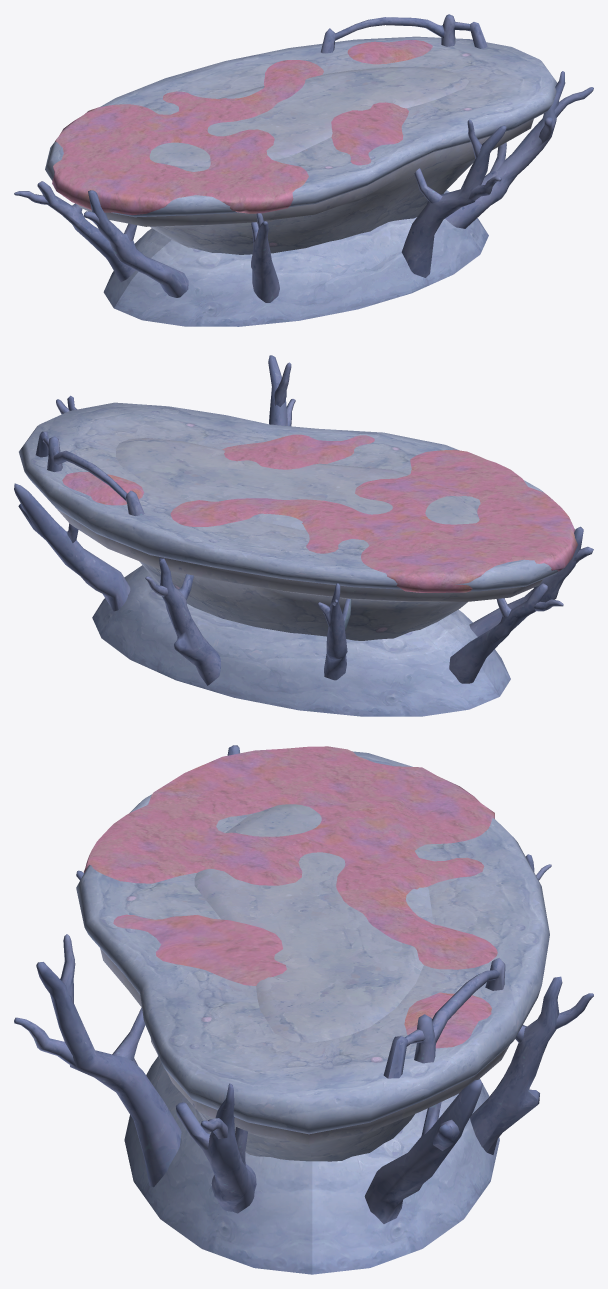
Rendered from Homeworld_Exterior_Fd_Rockery_Plot_RycPingtai_01_Lod0.fbx.
The picture shows the model from 3 angles, top to bottom: view 1: azimuth 30°, elevation 25°; view 2: azimuth 150°, elevation 25°; view 3: azimuth 270°, elevation 25°; orthographic projection. The views are drawn at different scales.
Parts seen in each view (by area): view 1: Area_Fd_Plot_RYC_Pingtai_01_Lod0, Area_Fd_Plot_RYC_Pingtai_TX_01_Lod0; view 2: Area_Fd_Plot_RYC_Pingtai_01_Lod0, Area_Fd_Plot_RYC_Pingtai_TX_01_Lod0; view 3: Area_Fd_Plot_RYC_Pingtai_01_Lod0, Area_Fd_Plot_RYC_Pingtai_TX_01_Lod0.
Part boxes in pixels (x1,y1,x2,y2): Area_Fd_Plot_RYC_Pingtai_01_Lod0: (14,14,593,326); Area_Fd_Plot_RYC_Pingtai_TX_01_Lod0: (52,40,432,215); Area_Fd_Plot_RYC_Pingtai_01_Lod0: (14,355,593,716); Area_Fd_Plot_RYC_Pingtai_TX_01_Lod0: (62,434,577,592); Area_Fd_Plot_RYC_Pingtai_01_Lod0: (14,745,593,1274); Area_Fd_Plot_RYC_Pingtai_TX_01_Lod0: (83,746,497,1048).
Bounding box in the file's own units: 23.47 × 7.77 × 14.91.
